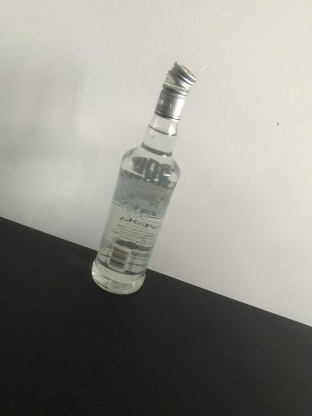nakretka: (153, 60, 197, 123)
